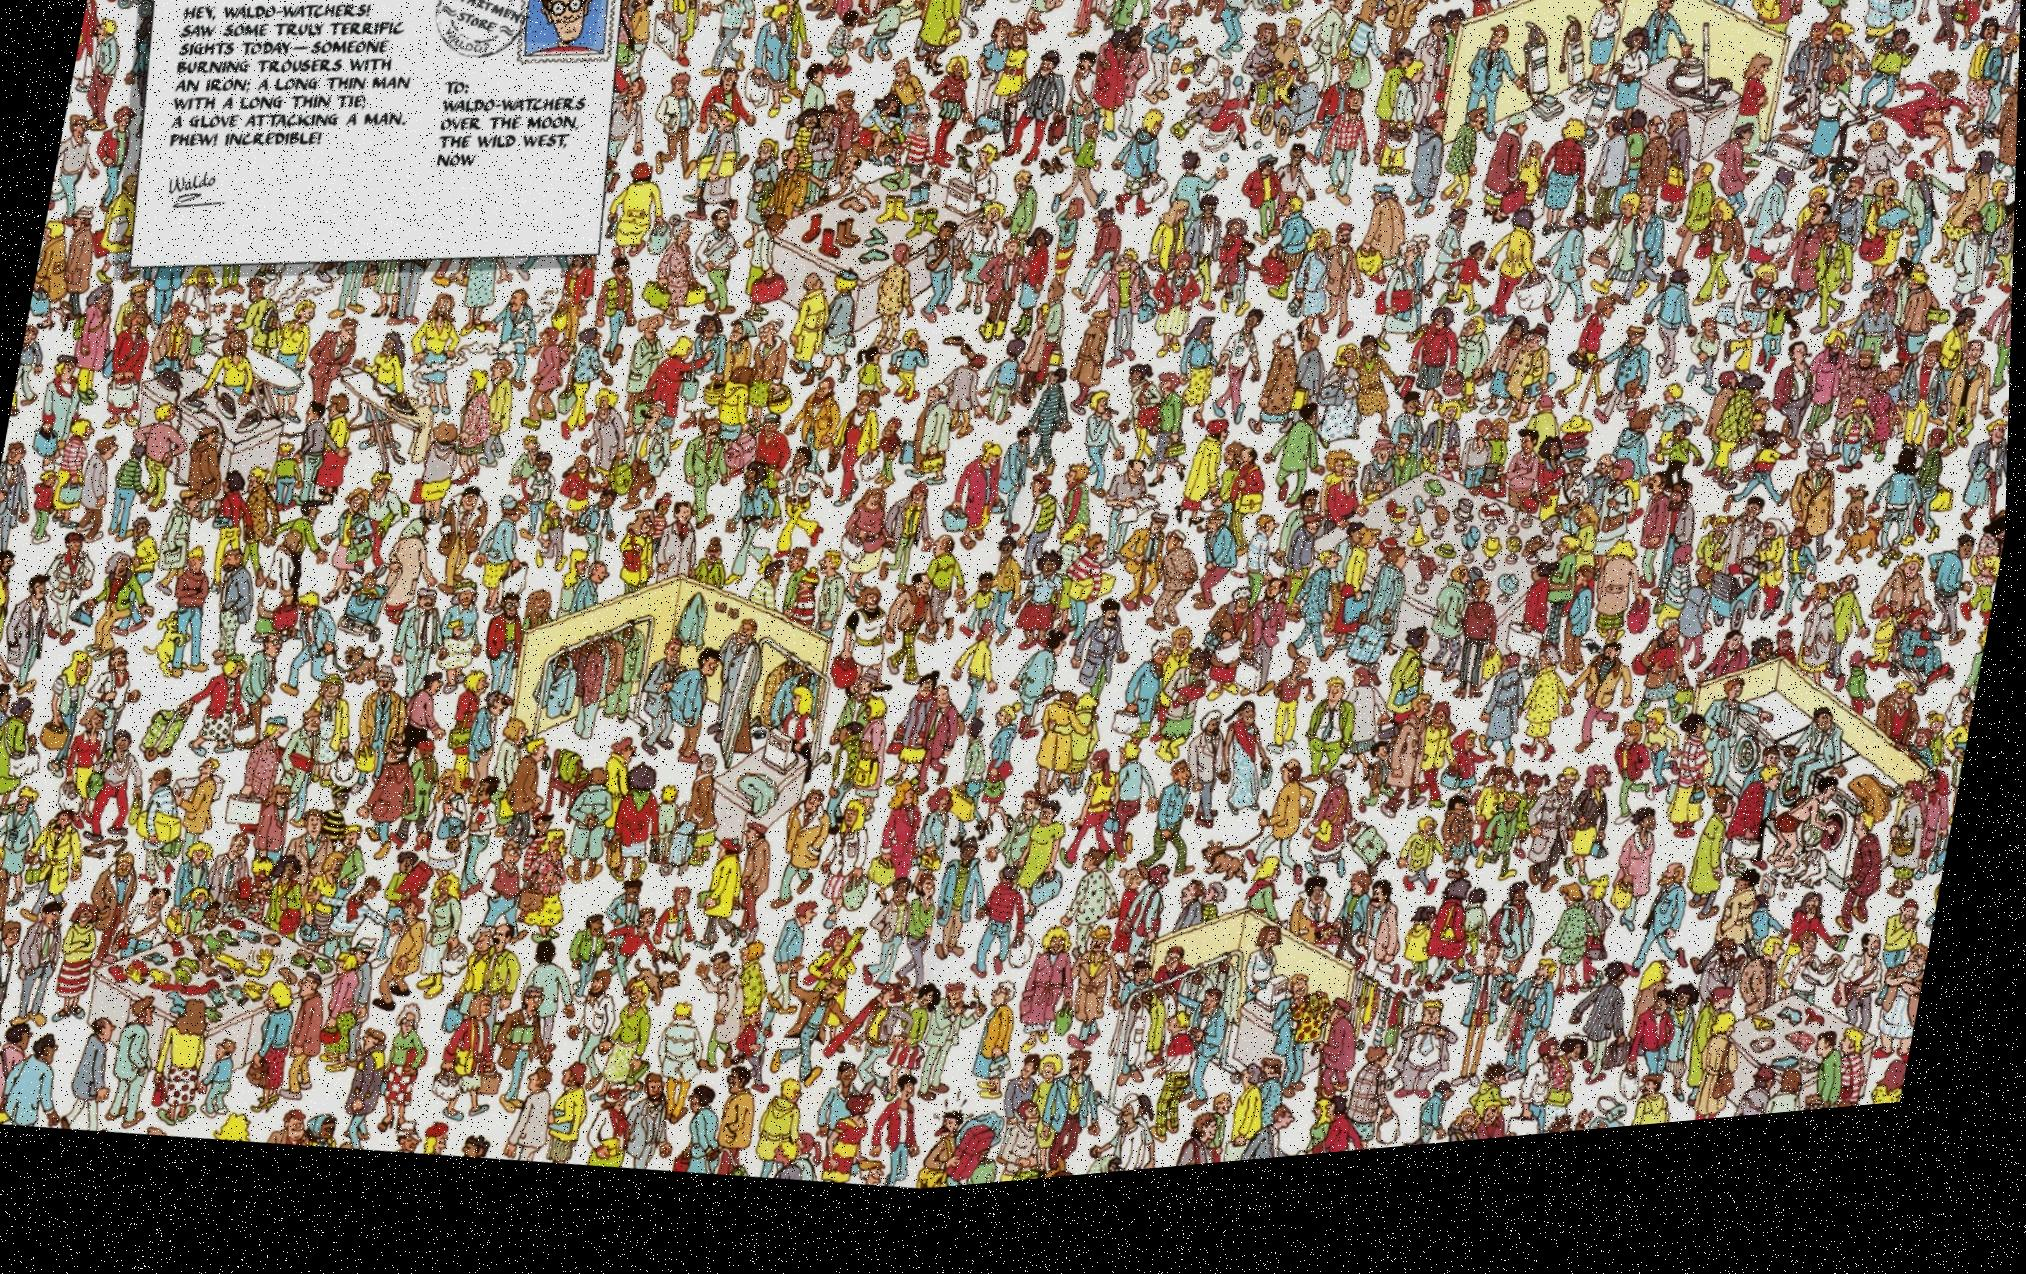waldo: (522, 0, 609, 62), (902, 123, 935, 156)
